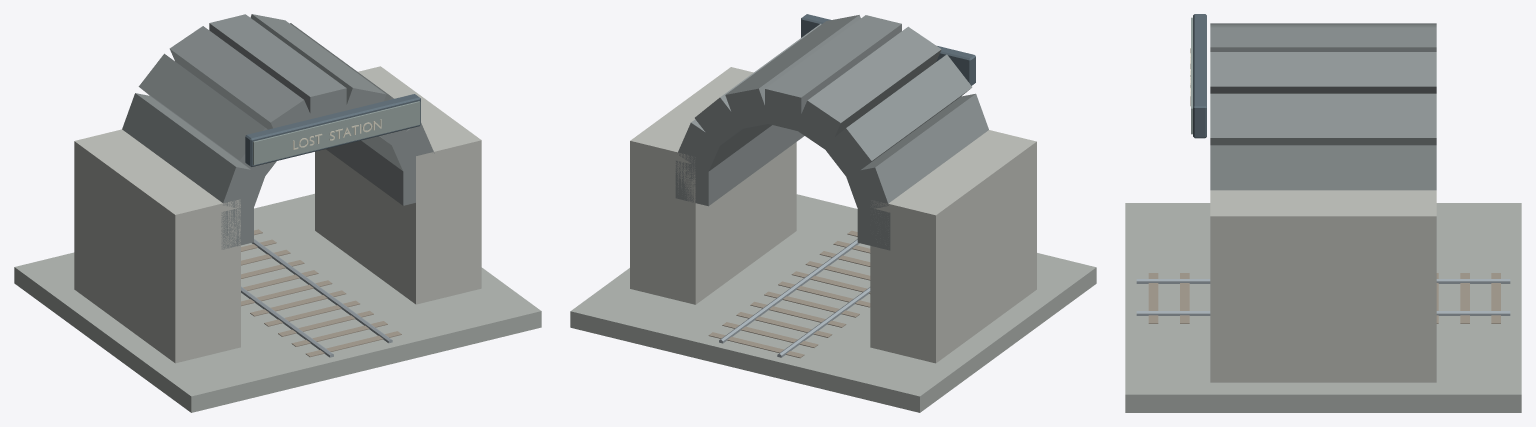
Rendered from SM_ENV_Building_04_Station.glb.
The picture shows the model from 3 angles, left to right: view 1: azimuth 30°, elevation 25°; view 2: azimuth 150°, elevation 25°; view 3: azimuth 270°, elevation 25°; orthographic projection. The views are drawn at different scales.
Visible parts, largest first — view 1: SM_ENV_Building_04_Station; view 2: SM_ENV_Building_04_Station; view 3: SM_ENV_Building_04_Station.
Boxes of the visible parts, <box> form: SM_ENV_Building_04_Station: <box>14,14,541,412</box>; SM_ENV_Building_04_Station: <box>570,14,1096,412</box>; SM_ENV_Building_04_Station: <box>1125,14,1521,412</box>.
Bounding box in the file's own units: 8 × 5.45 × 7.
